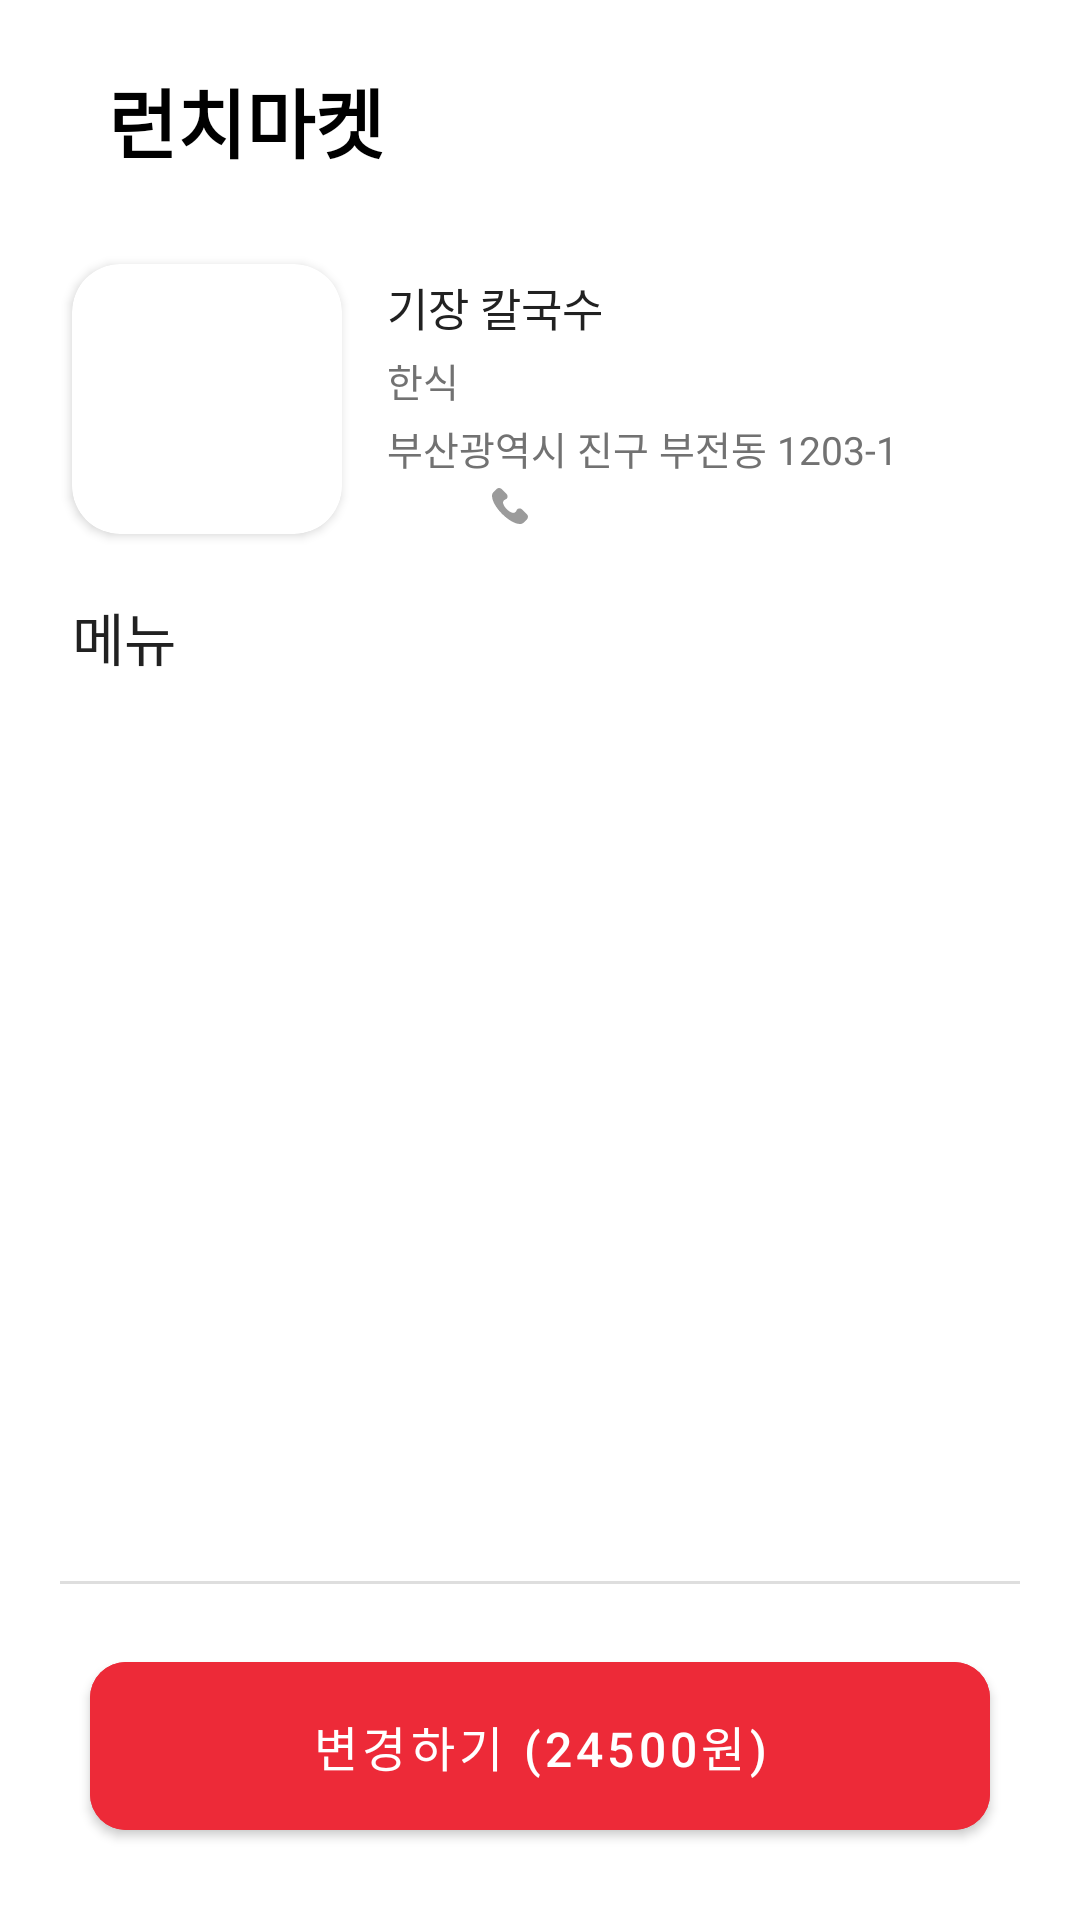

Screen size 1080 x 1920. Icon name, then its center in pixels as [x,y]:
telephone: [510,506]
